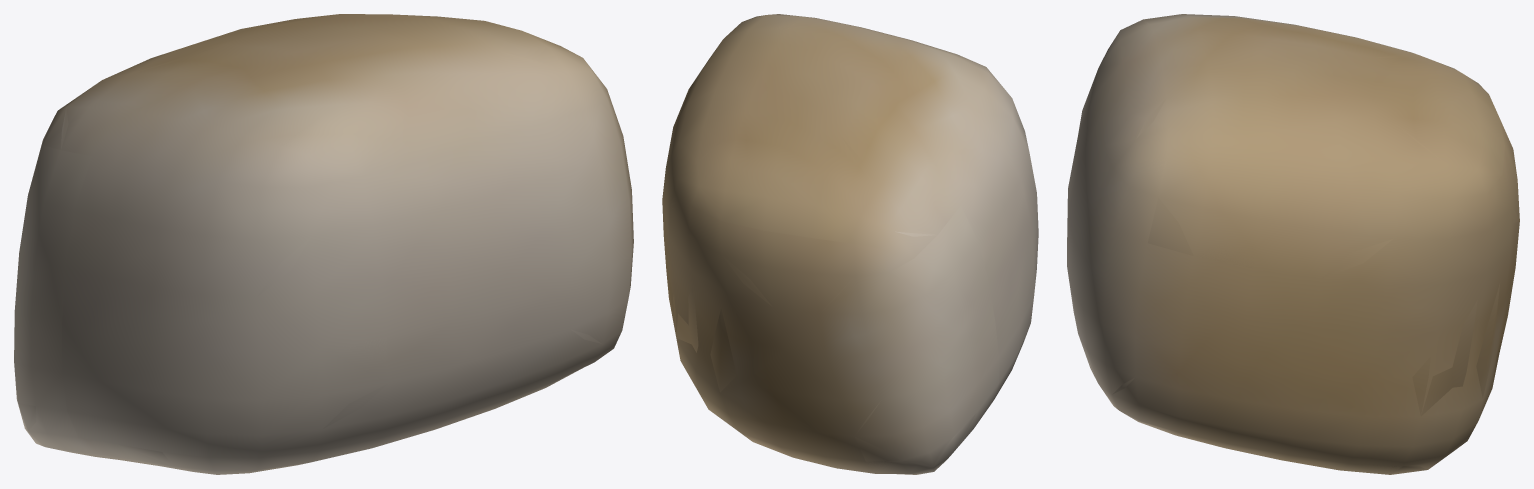
File: L tarsi tertium.fbx
3 renders of one model, left to right at view 1: azimuth 30°, elevation 25°; view 2: azimuth 150°, elevation 25°; view 3: azimuth 270°, elevation 25°, orthographic. The views are drawn at different scales.
Parts seen in each view (by area): view 1: L tarsi tertium, L tarsi tertium low; view 2: L tarsi tertium, L tarsi tertium low; view 3: L tarsi tertium, L tarsi tertium low.
Part boxes in pixels (box(x1,y1,x2,y2)): L tarsi tertium: box(14, 14, 633, 474); L tarsi tertium low: box(18, 31, 602, 465); L tarsi tertium: box(662, 14, 1038, 474); L tarsi tertium low: box(670, 14, 988, 472); L tarsi tertium: box(1067, 14, 1519, 474); L tarsi tertium low: box(1079, 20, 1519, 474).
Bounding box in the file's own units: 1.12 × 1.01 × 1.01.
